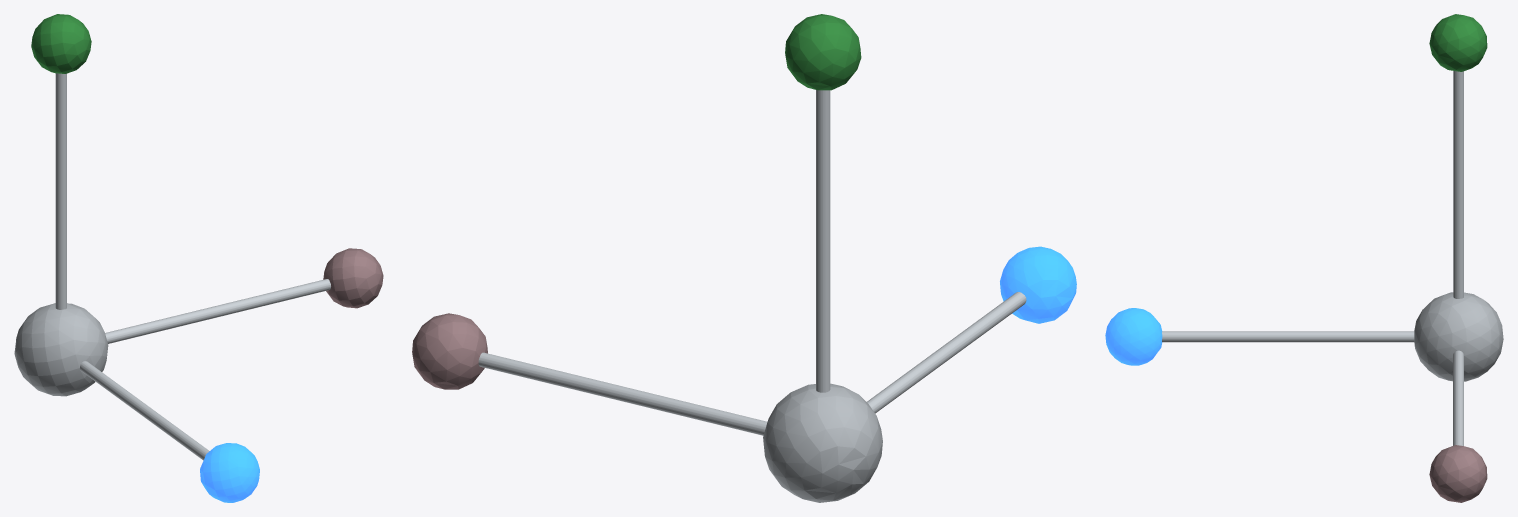
File: axis-triad-187443.glb
3 renders of one model, left to right at view 1: azimuth 30°, elevation 25°; view 2: azimuth 150°, elevation 25°; view 3: azimuth 270°, elevation 25°, orthographic. The views are drawn at different scales.
Parts seen in each view (by area): view 1: triad, tip-z; view 2: triad, tip-z; view 3: triad, tip-z.
Part boxes in pixels (x1,y1,x2,y2): triad: (14,14,383,460); tip-z: (200,443,259,502); triad: (412,14,1026,502); tip-z: (1000,246,1076,323); triad: (1162,14,1503,502); tip-z: (1105,308,1162,365).
Bounding box in the file's own units: 1.23 × 1.23 × 1.23.
